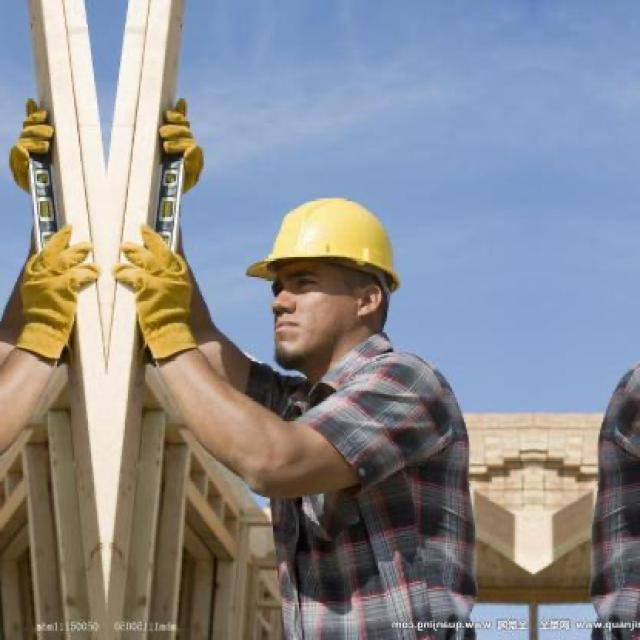con casco: (248, 189, 392, 395)
